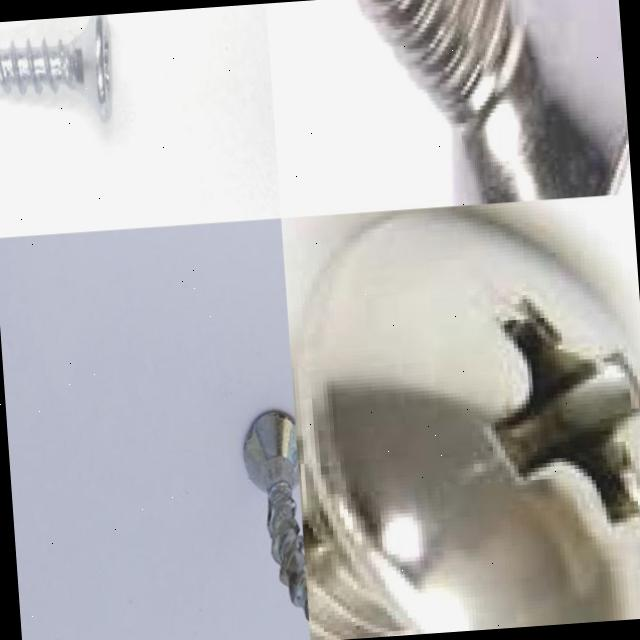Screw: (293, 204, 640, 640), (351, 0, 629, 206), (243, 412, 309, 622), (0, 14, 112, 123)
